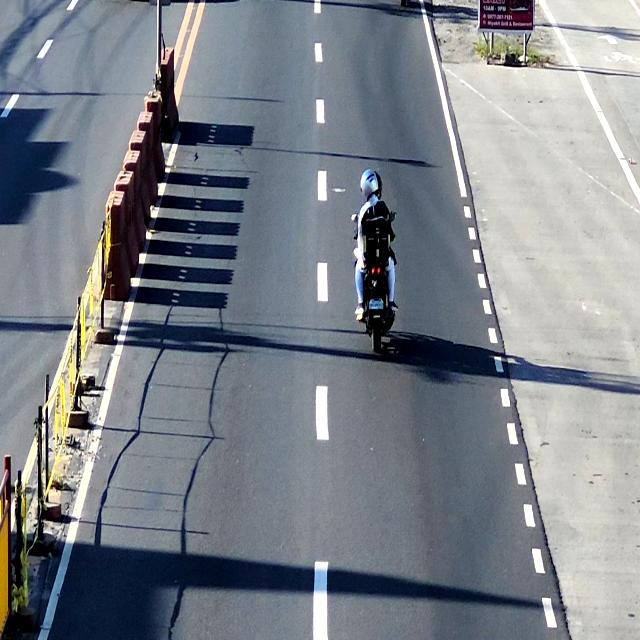Motorcycle: (356, 170, 400, 355)
